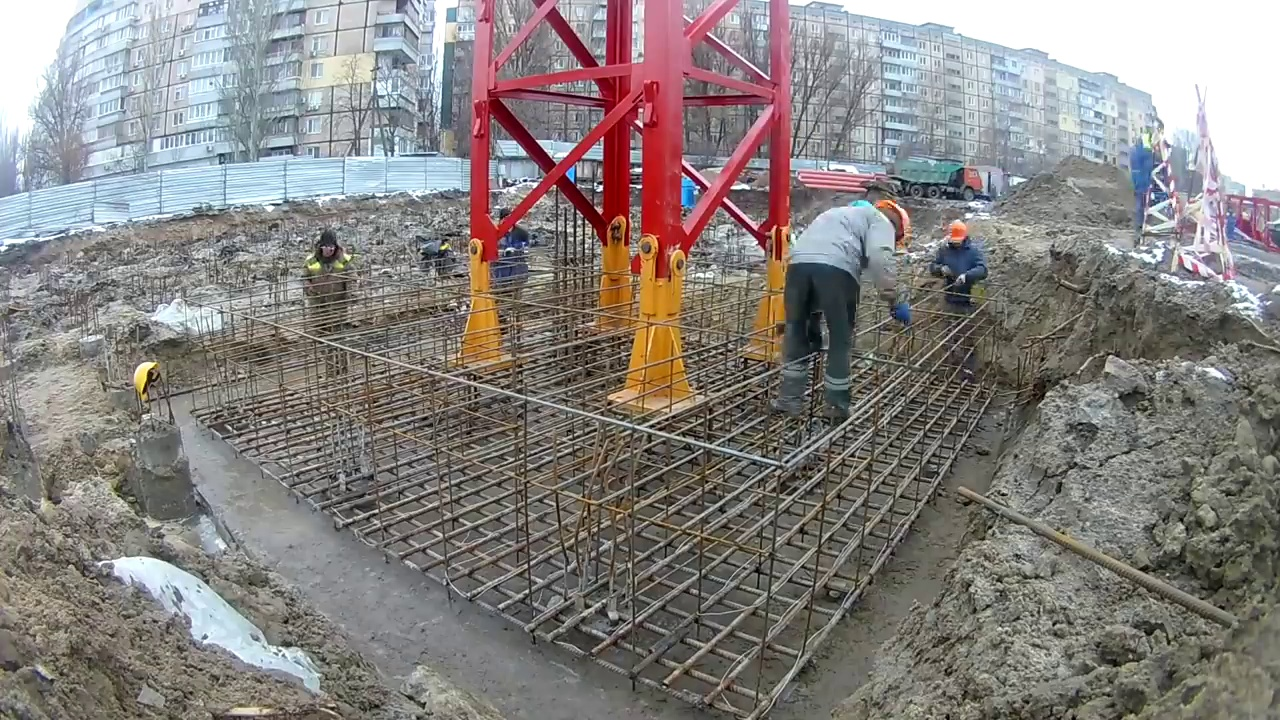helmet: (874, 199, 911, 240), (132, 359, 159, 401), (946, 221, 968, 245)
helmet-off: (317, 232, 338, 261), (499, 208, 515, 232)
helmet-on: (871, 200, 916, 247), (945, 218, 967, 250)
person: (778, 197, 915, 442), (302, 229, 358, 381), (929, 218, 988, 319), (490, 207, 532, 334), (1128, 132, 1172, 239), (1223, 206, 1239, 247)
